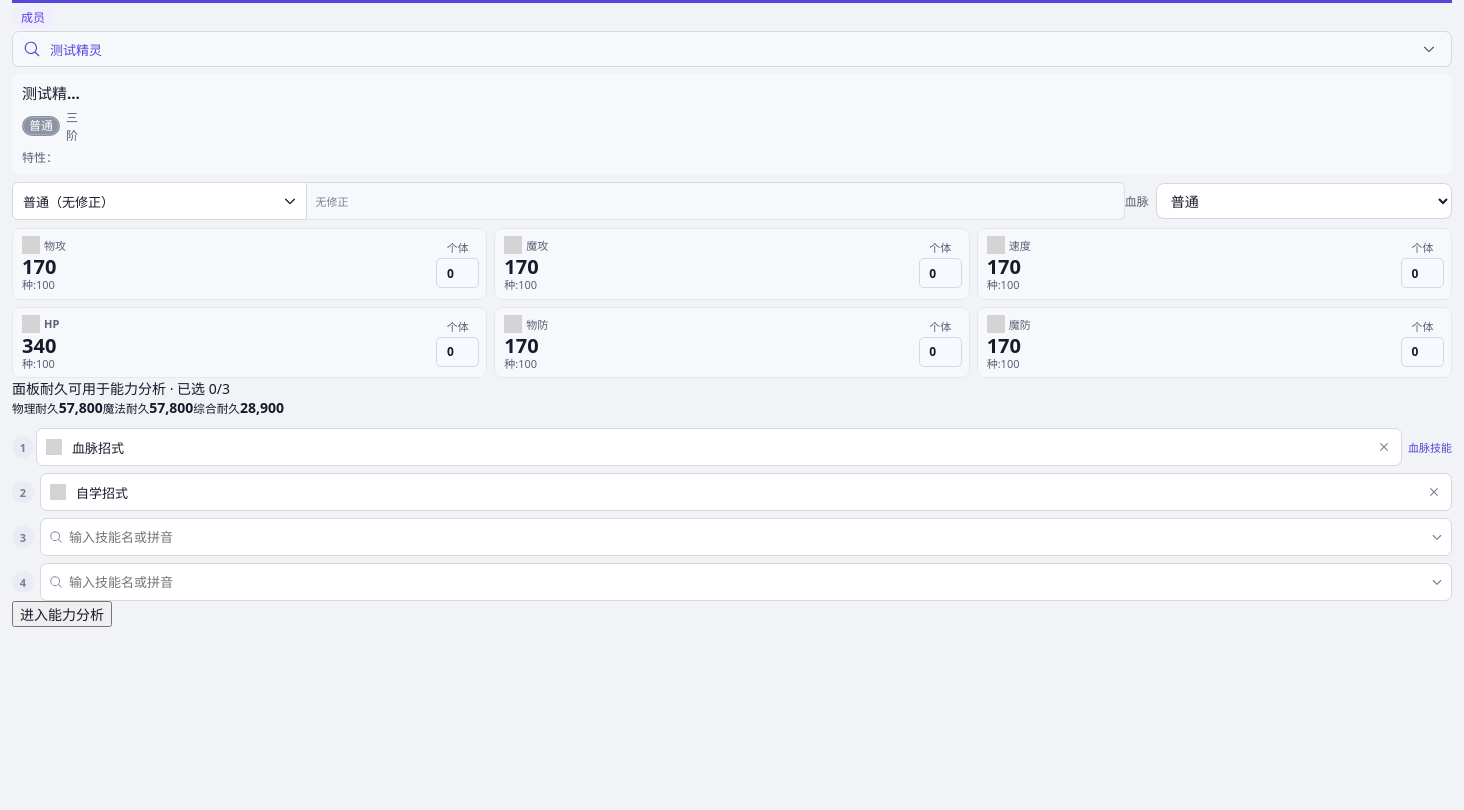
Scenario: 技能选单和已选技能明确标记血脉来源，普通技能仍显示可学习
The image size is (1464, 810).
Check: the text "血脉技能" is shown, box 1408,439 -> 1452,455
Focus the dropdown named "成员技能1": (716, 447) 66,429 -> 1367,465
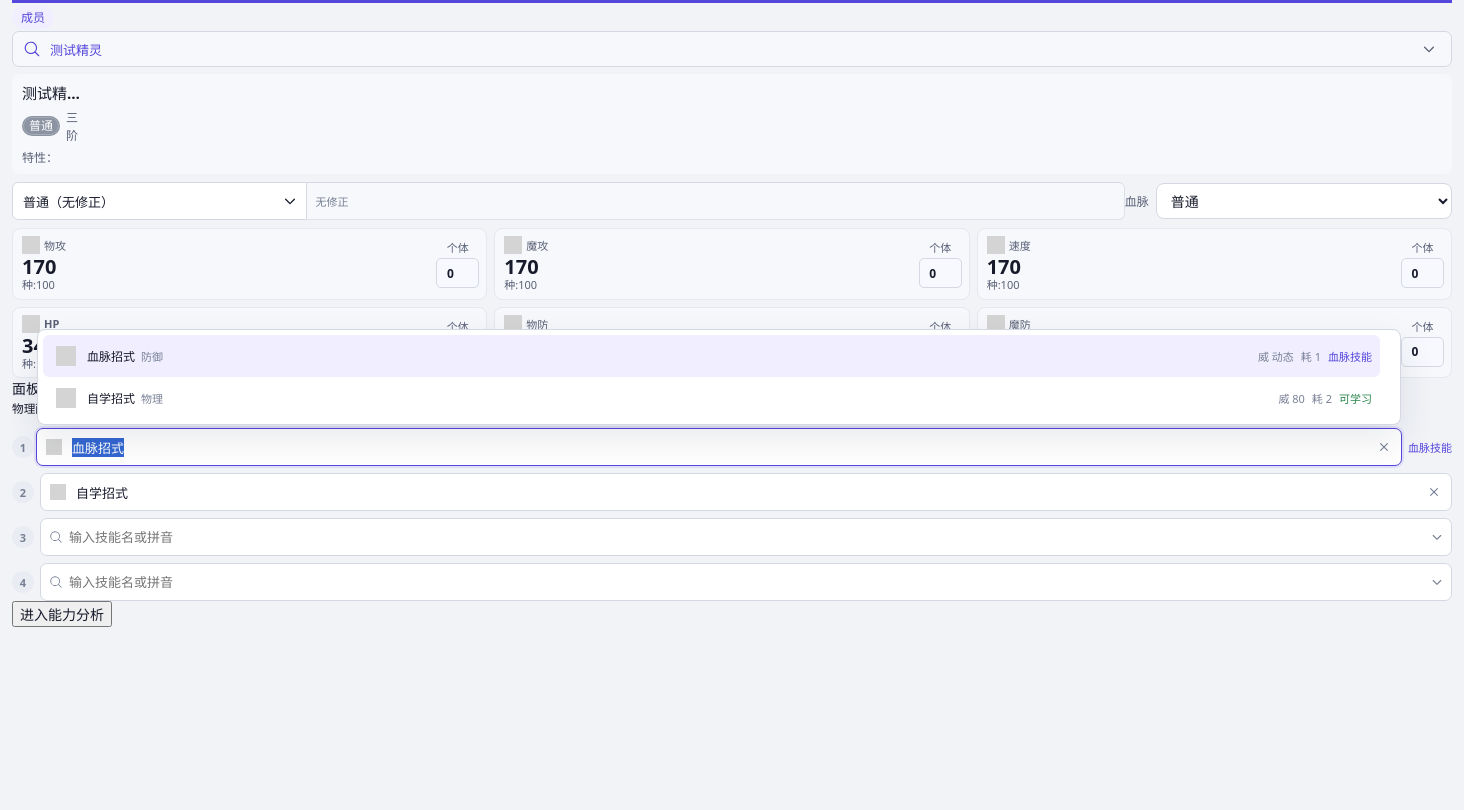
Check: the option "血脉招式 防御 威 动态 耗 1 血脉技能" is shown, box 43,335 -> 1380,377
Check: the option "自学招式 物理 威 80 耗 2 可学习" is shown, box 56,388 -> 1372,408
